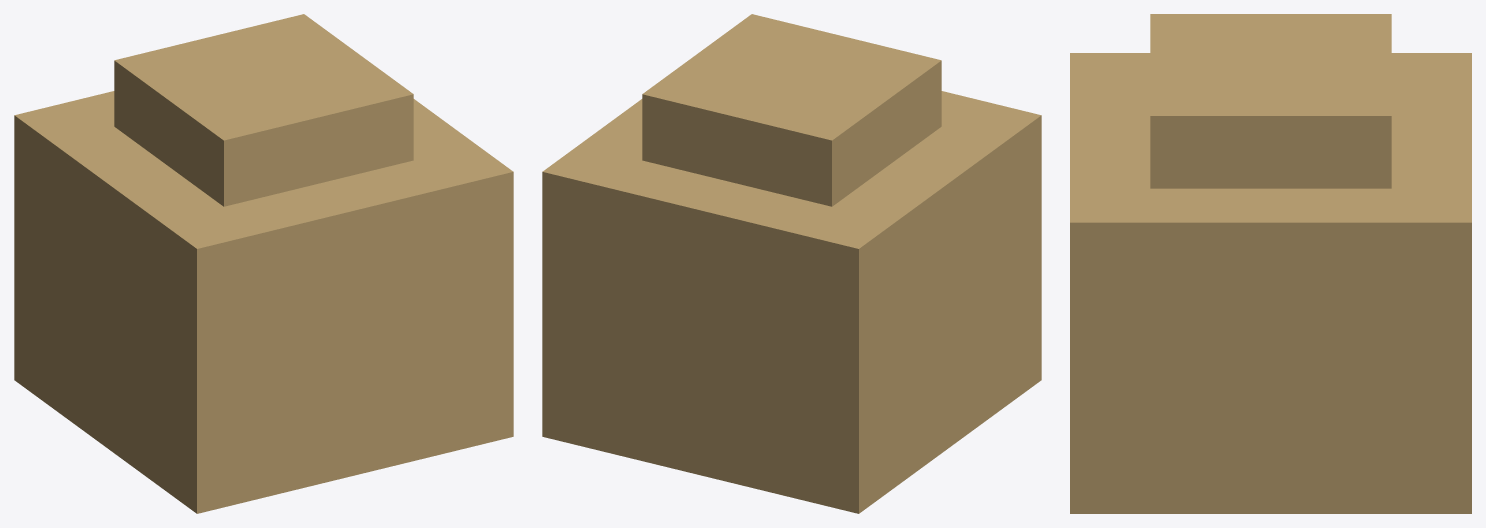
File: Item_DS_Food_RoastSpud_V0.glb
3 views of the same model, side by side, from view 1: azimuth 30°, elevation 25°; view 2: azimuth 150°, elevation 25°; view 3: azimuth 270°, elevation 25° (orthographic). The views are drawn at different scales.
Parts seen in each view (by area): view 1: Cube, Cube.001; view 2: Cube, Cube.001; view 3: Cube, Cube.001.
Part boxes in pixels (bbox=[...]): Cube: bbox=[14, 91, 513, 513]; Cube.001: bbox=[114, 14, 413, 206]; Cube: bbox=[542, 91, 1041, 513]; Cube.001: bbox=[642, 14, 941, 206]; Cube: bbox=[1070, 53, 1471, 513]; Cube.001: bbox=[1150, 14, 1391, 188].
Size of the model in its own units: 0.18 by 0.18 by 0.18.
